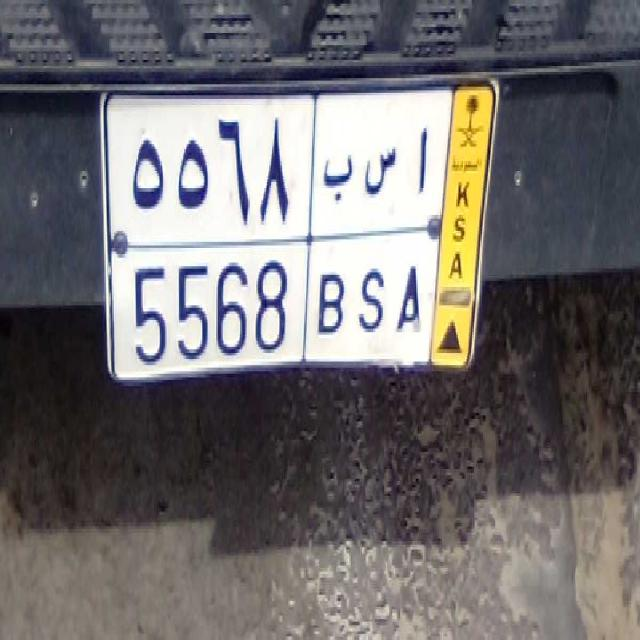license_plate: (119, 244, 427, 383)
